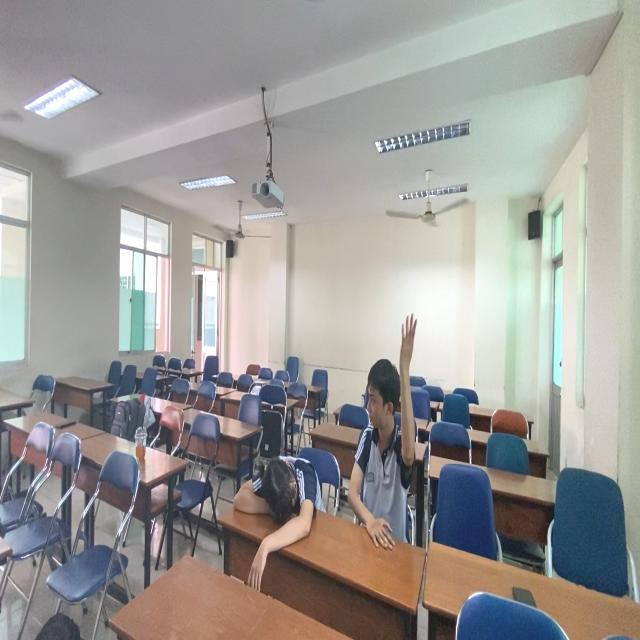raise_hand: (347, 314, 424, 554)
sleep: (232, 447, 324, 597)
